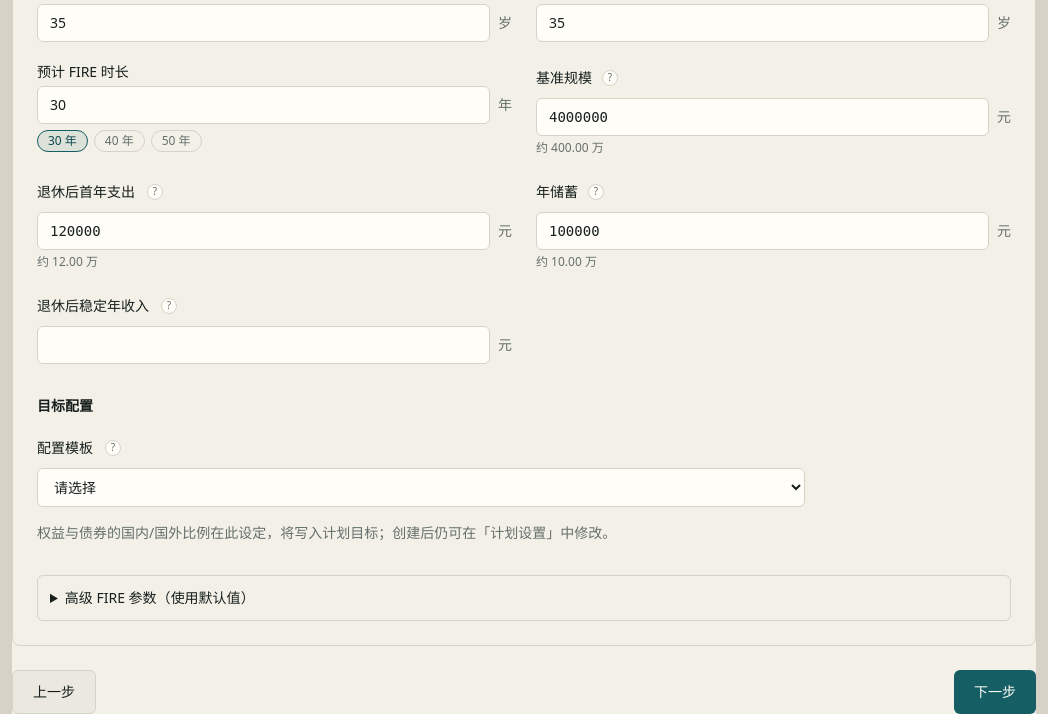
Test: NewPlanWizardPage › auto-complements region allocation when editing domestic
(page scrolled)
Select "保守 — 权益 45% / 债券 45% / 现金/其他 10%" in the dropdown labelled "配置模板" at (421, 488), box [37,468,805,507]
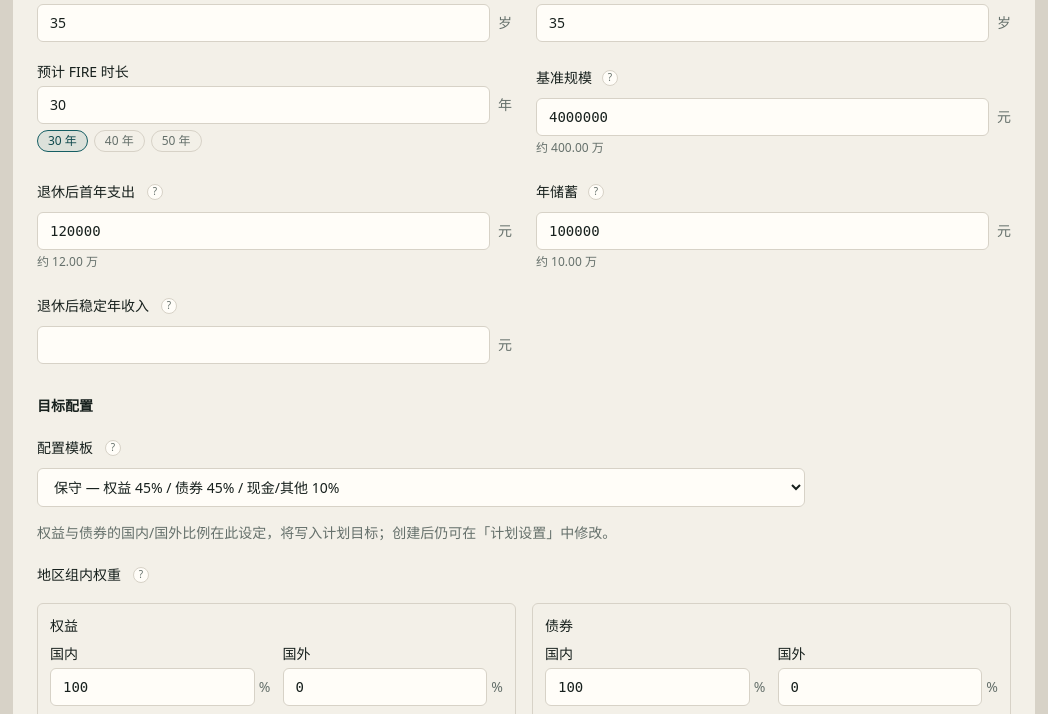
Check: the text "地区组内权重" is shown, box [37,565,121,585]
Replace the text in the 1st field with test id "percent-input" with "70" at (152, 687), box [50,668,255,706]
(page scrolled)
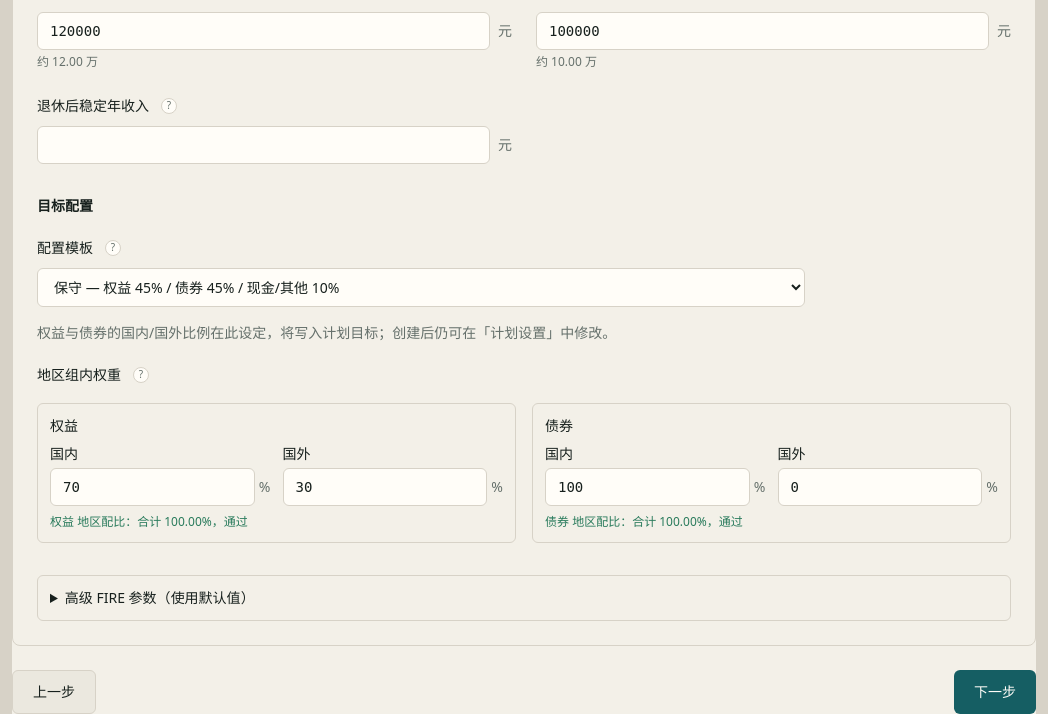
Check: the 1st field with test id "percent-input" holds "30", box [282,468,487,506]
Click the button "下一步" at (995, 692), box [954,670,1036,713]
(page scrolled)
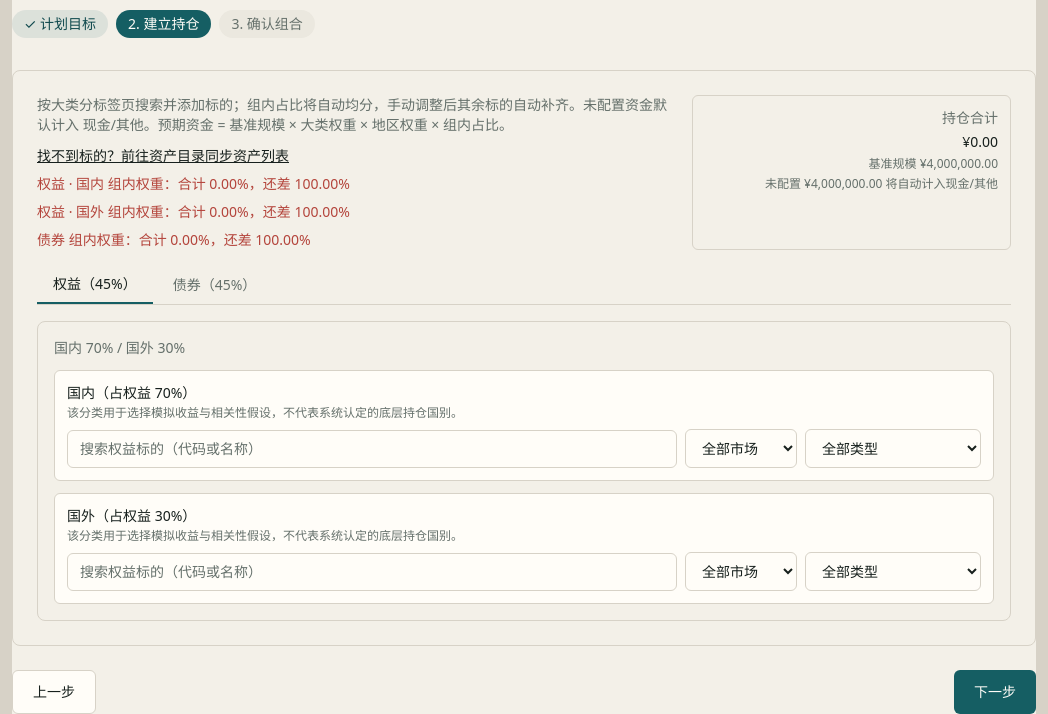
Check: the text "按大类分标签页搜索并添加标的" is shown, box [37,95,667,134]
